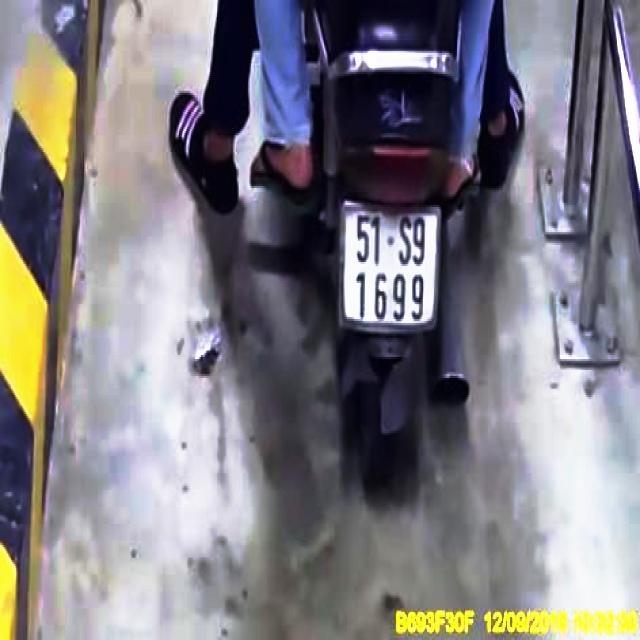license_plate: (342, 207, 439, 330)
